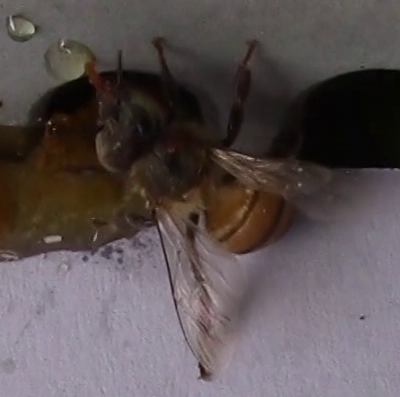Varroa destructor: (158, 130, 193, 153)
